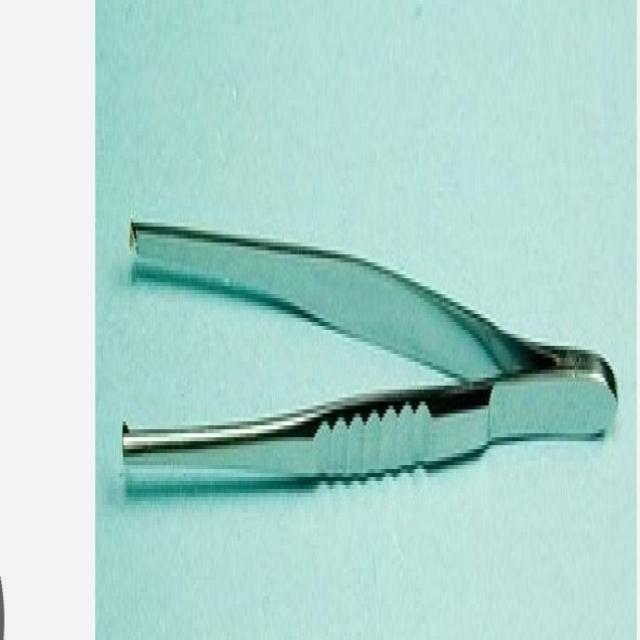Disscting Forceps -tooth-: (120, 186, 619, 514)
